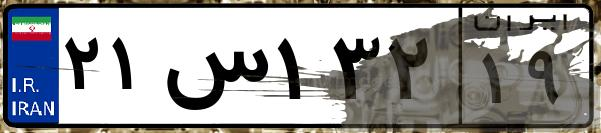1: (270, 28, 330, 110), (475, 38, 525, 113), (110, 28, 158, 98)
2: (385, 28, 445, 110), (57, 26, 110, 100)
3: (330, 28, 385, 110)
9: (525, 38, 570, 115)
س: (158, 20, 270, 120)
